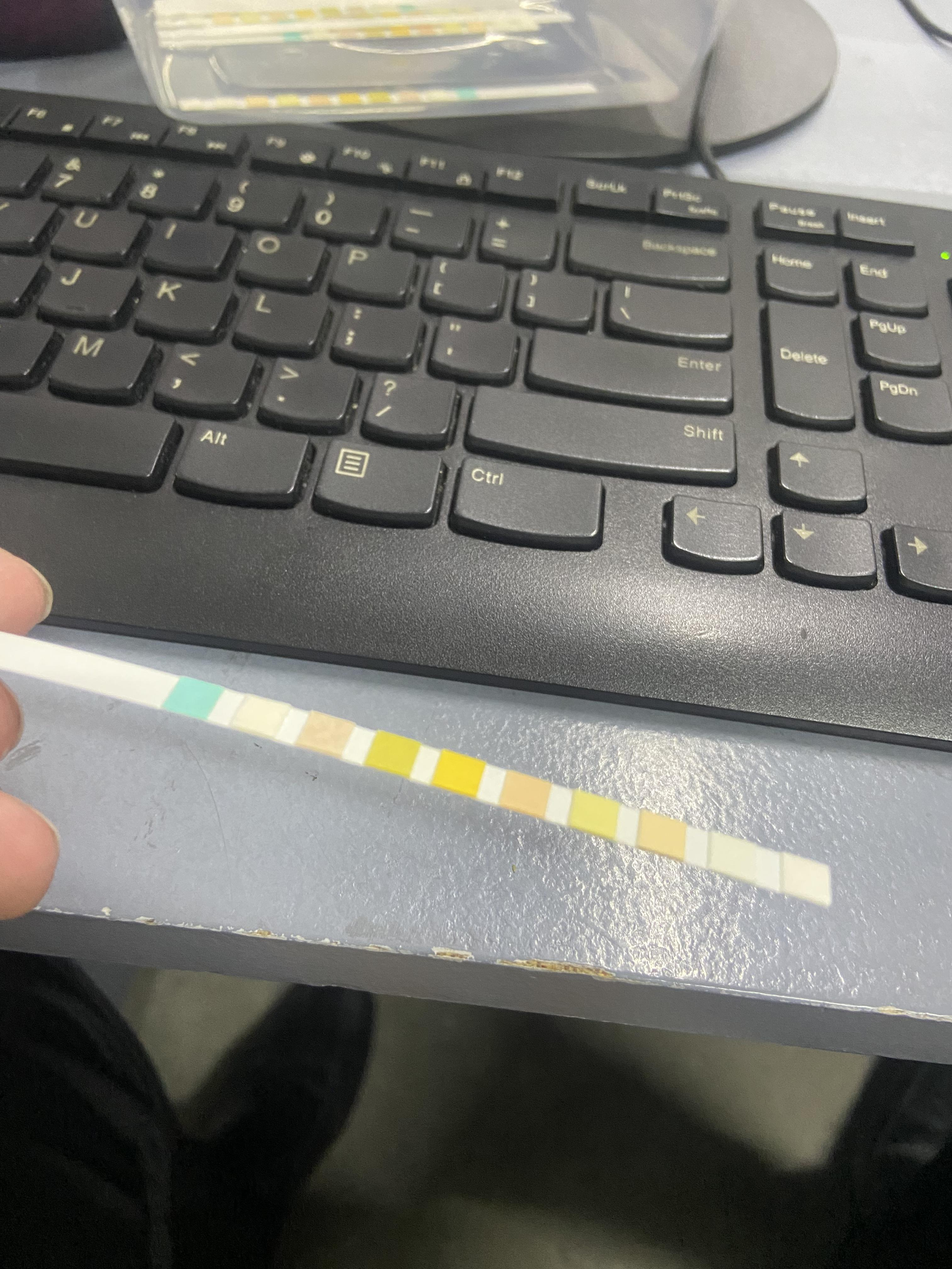Bilirubin: (244, 702, 278, 730)
Blood: (439, 759, 477, 788)
Glucose: (176, 682, 211, 713)
Ketone: (308, 718, 343, 749)
Leukocytes: (783, 868, 830, 894)
Nitrite: (710, 845, 755, 870)
Protein: (572, 802, 616, 827)
SpGravity: (375, 738, 411, 769)
Urobilinogen: (639, 825, 684, 848)
pH: (505, 781, 546, 808)
strip: (1, 633, 833, 906)
